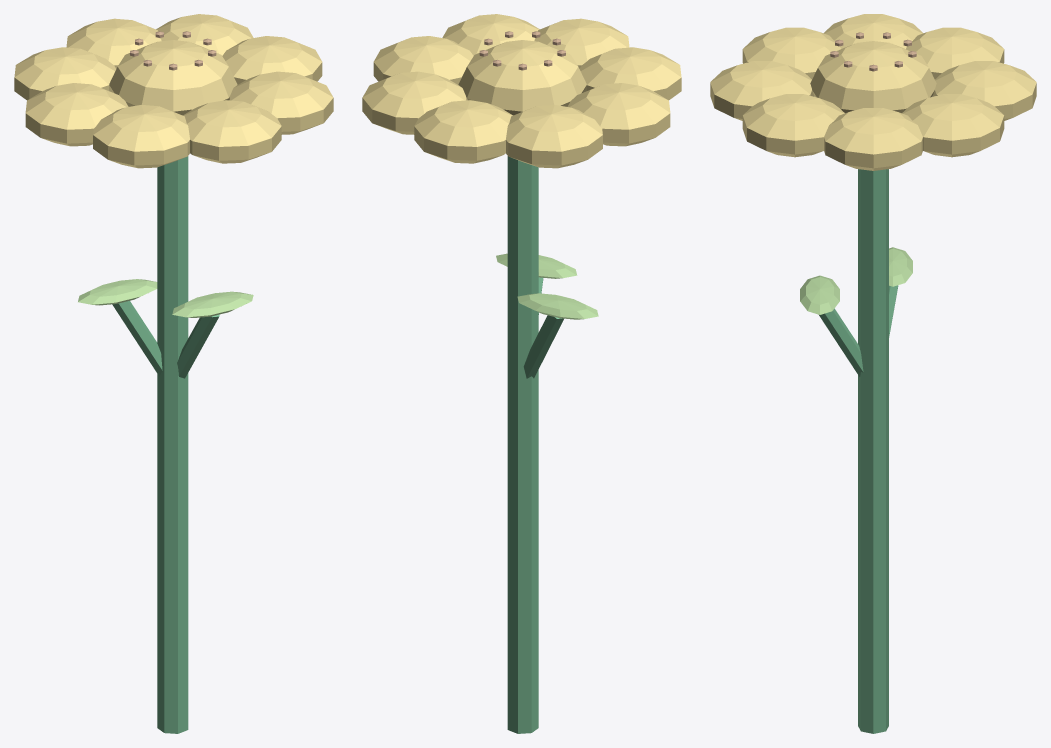
Rendered from flor_fondo_amarilla.glb.
3 renders of one model, left to right at view 1: azimuth 30°, elevation 25°; view 2: azimuth 150°, elevation 25°; view 3: azimuth 270°, elevation 25°, orthographic.
Parts seen in each view (by area): view 1: flor_fondo_amarilla; view 2: flor_fondo_amarilla; view 3: flor_fondo_amarilla.
Boxes of the visible parts, x1=… form: flor_fondo_amarilla: x1=14, y1=14, x2=333, y2=733; flor_fondo_amarilla: x1=362, y1=14, x2=681, y2=733; flor_fondo_amarilla: x1=710, y1=14, x2=1036, y2=733.
Size of the model in its own units: 2.64 by 6.07 by 2.65.
